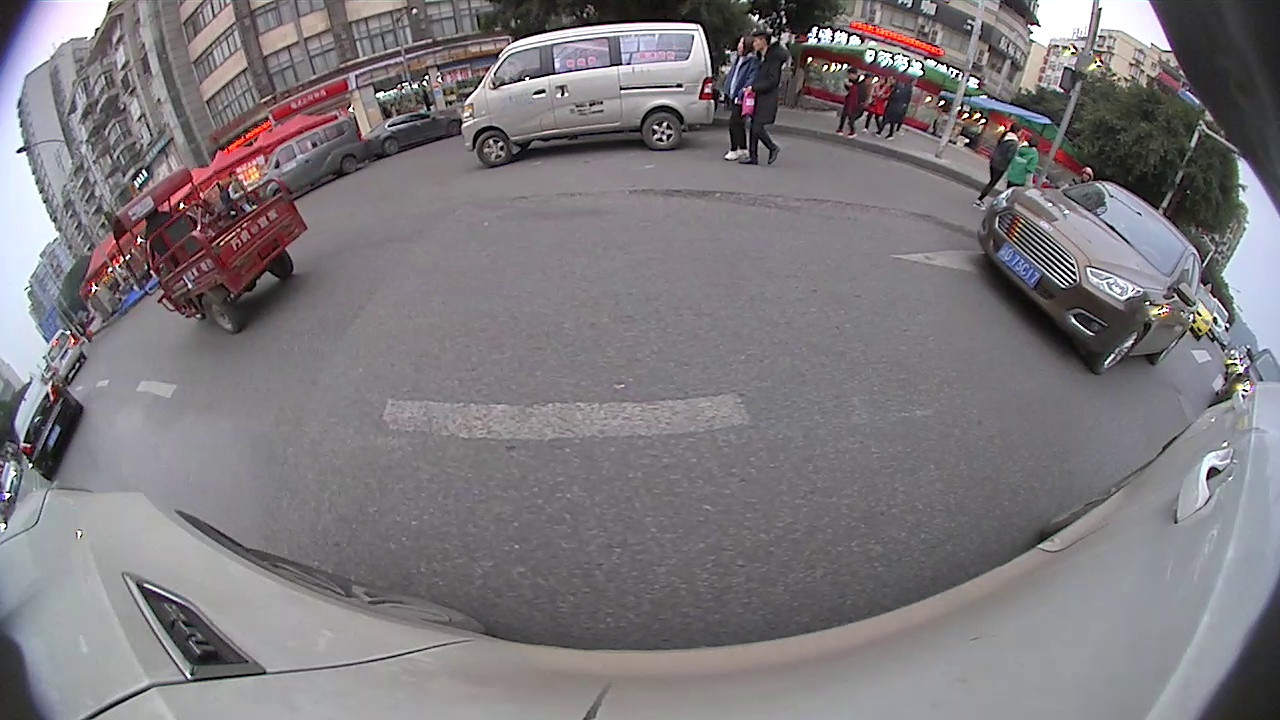car: (974, 179, 1205, 376), (459, 20, 717, 166), (9, 373, 88, 482), (260, 115, 368, 193), (364, 110, 462, 159), (37, 322, 90, 377)
front: (1093, 318, 1148, 378), (472, 129, 514, 168)
person: (746, 28, 783, 169), (974, 109, 1024, 207), (726, 32, 756, 165)
rear: (197, 291, 247, 335), (639, 108, 686, 154)
rider: (110, 164, 308, 335)
